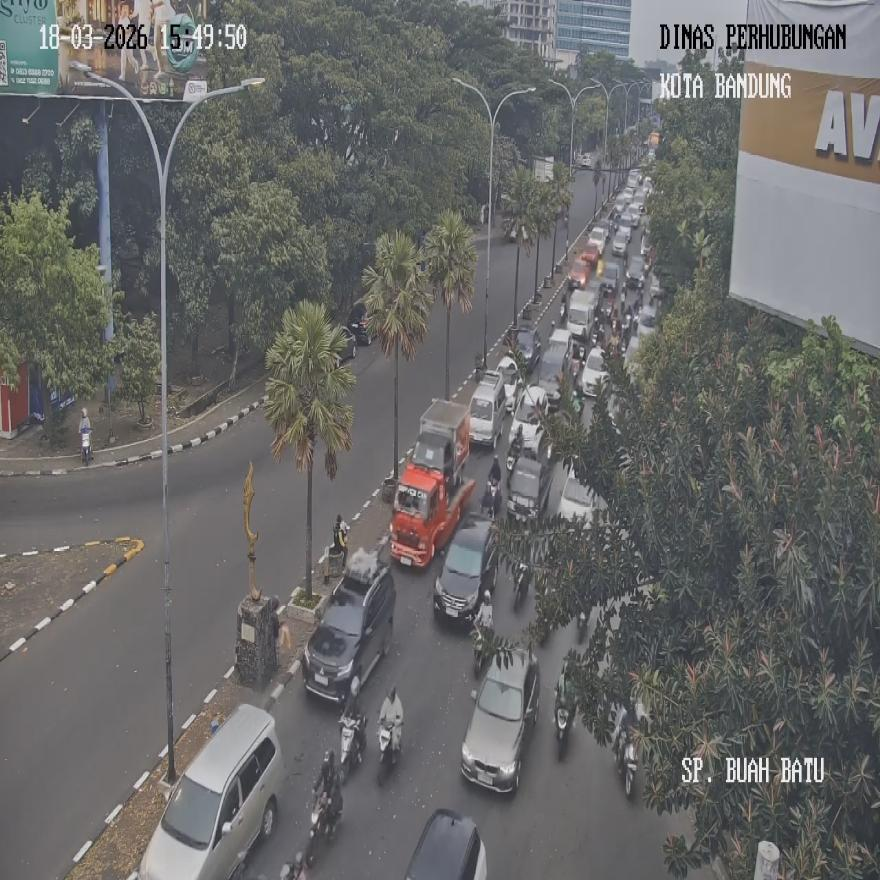Mobil: (138, 704, 281, 879), (301, 548, 395, 705), (389, 397, 475, 567), (460, 644, 539, 793), (433, 517, 498, 626), (404, 808, 487, 880)
Motor: (307, 784, 341, 867), (613, 715, 638, 799), (338, 712, 366, 784), (378, 715, 402, 780), (553, 684, 572, 759), (471, 616, 493, 678), (332, 516, 349, 567), (514, 561, 530, 610), (279, 852, 307, 880), (482, 479, 499, 518), (81, 428, 92, 464)
